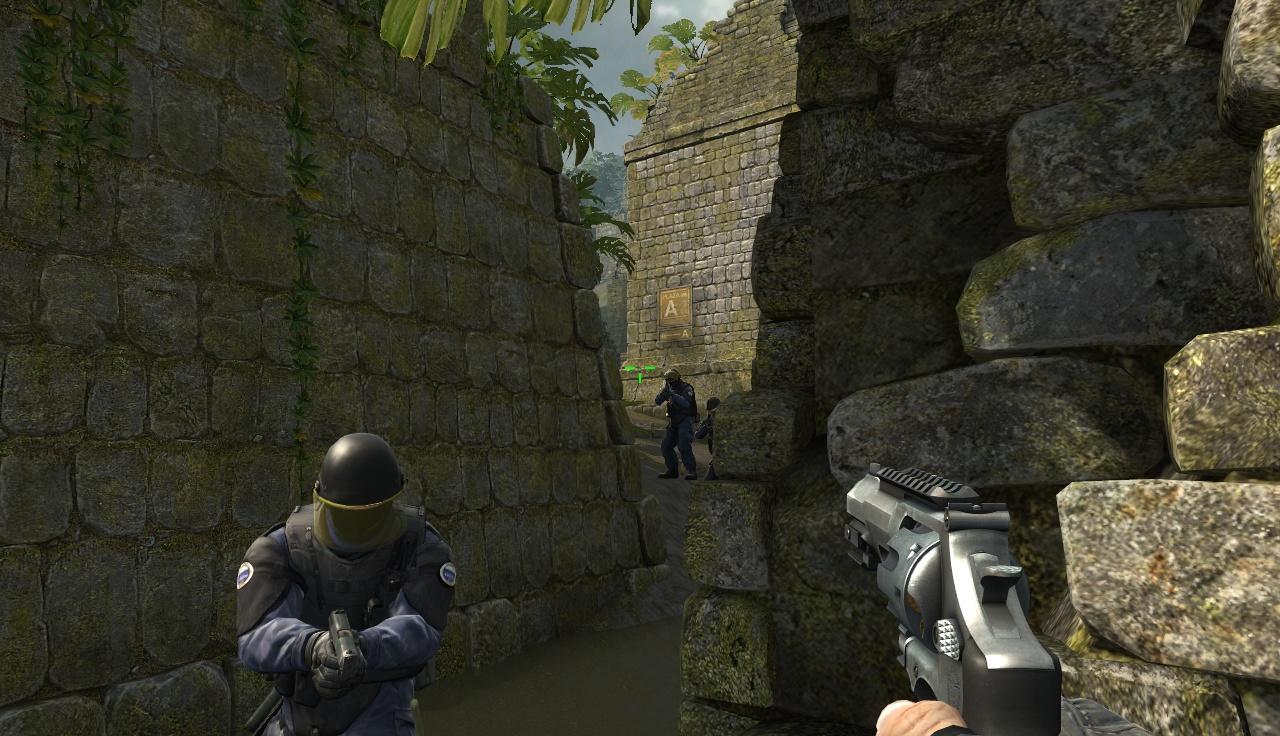ct: (245, 429, 443, 734), (653, 367, 696, 480)
cthead: (315, 432, 403, 548), (663, 368, 683, 389), (705, 397, 720, 416)
pistol: (837, 460, 1066, 736)
